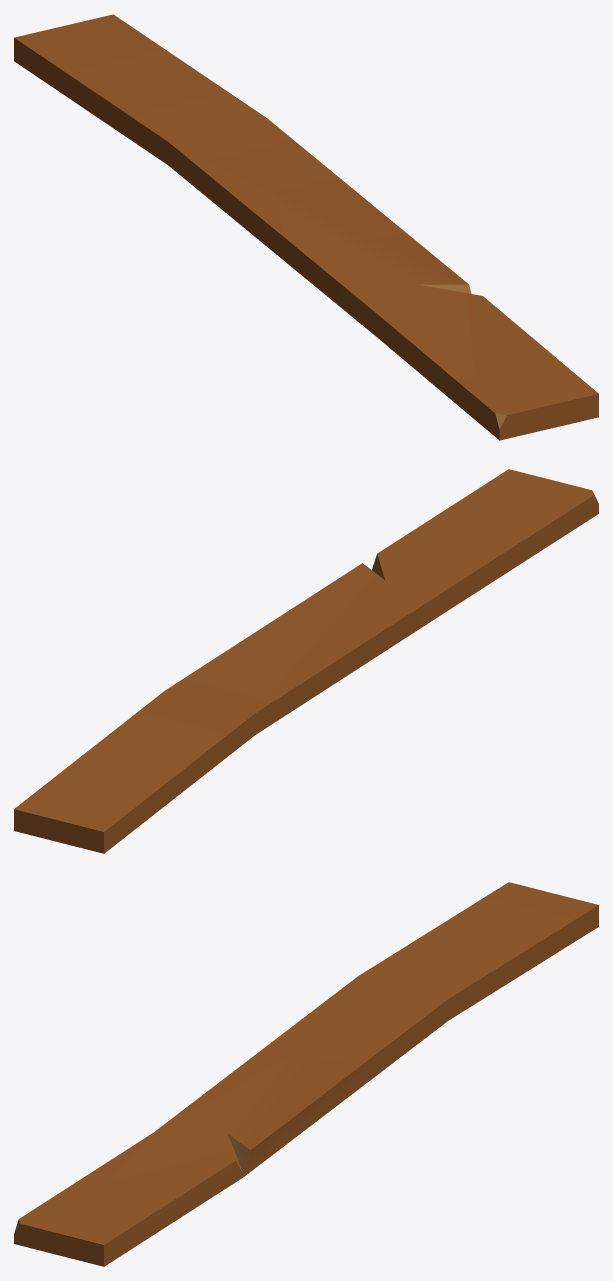
File: Plank_1_2.fbx
3 views of the same model, one above another, from view 1: azimuth 30°, elevation 25°; view 2: azimuth 150°, elevation 25°; view 3: azimuth 330°, elevation 25° (orthographic). The views are drawn at different scales.
Visible parts, largest first — view 1: Plank_1_2; view 2: Plank_1_2; view 3: Plank_1_2.
Part boxes in pixels (left/top/right/bottom): Plank_1_2: left=14, top=14, right=598, bottom=440; Plank_1_2: left=14, top=469, right=598, bottom=853; Plank_1_2: left=14, top=882, right=598, bottom=1266.
Size of the model in its own units: 41.66 by 11.88 by 300.
